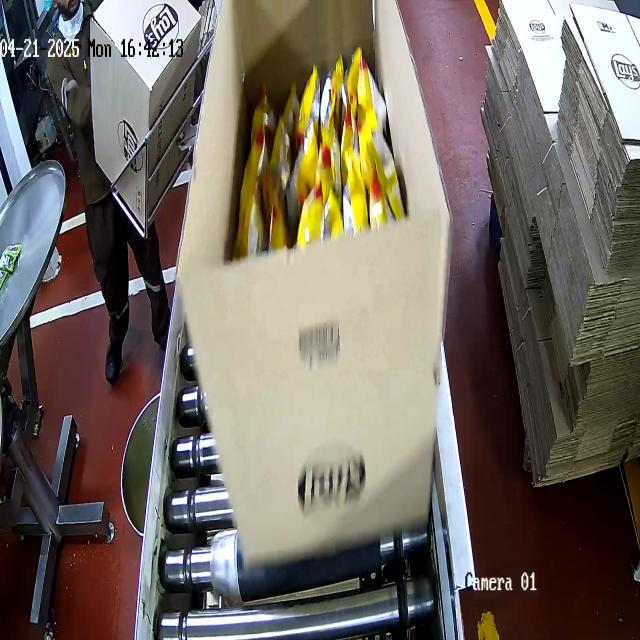SALTED: (238, 44, 402, 259)
